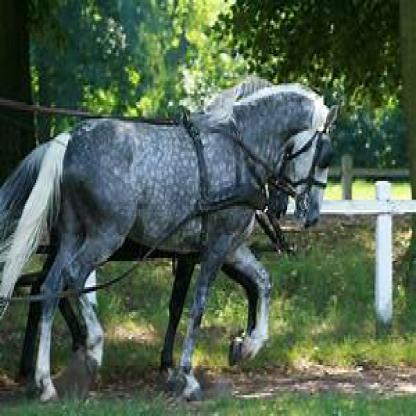horse: (3, 83, 338, 404)
